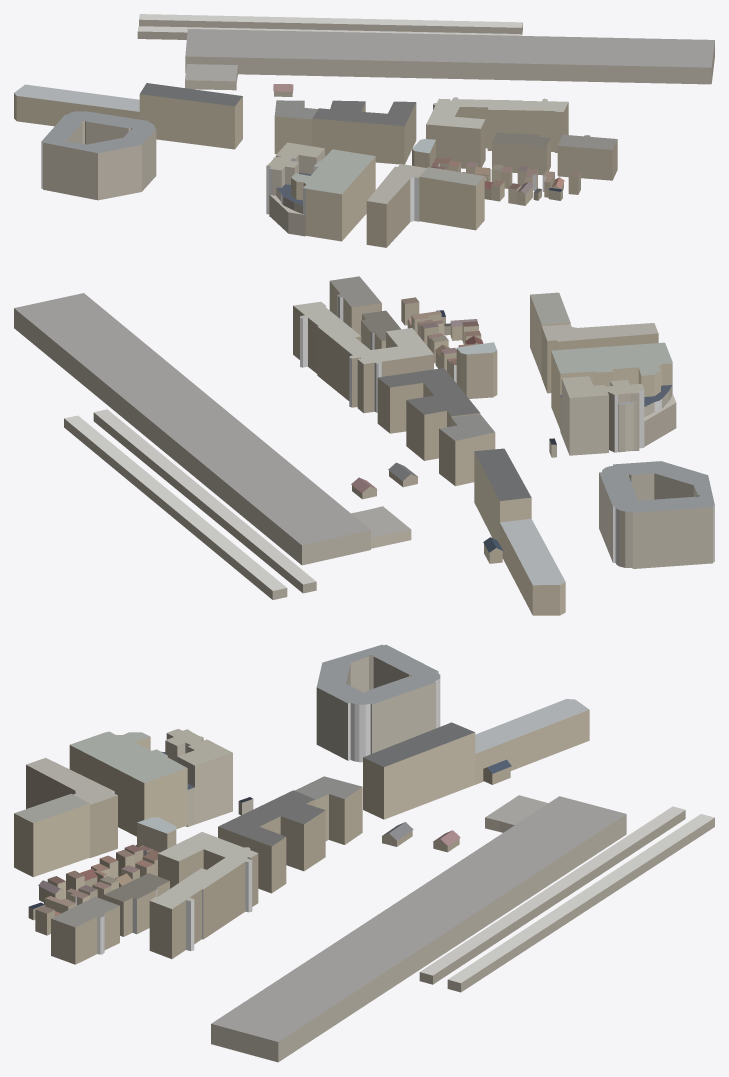
3 renders of one model, top to bottom at view 1: azimuth 30°, elevation 25°; view 2: azimuth 150°, elevation 25°; view 3: azimuth 270°, elevation 25°, orthographic. The views are drawn at different scales.
Parts seen in each view (by area): view 1: tuile; view 2: tuile; view 3: tuile.
Part boxes in pixels (x1=…): tuile: x1=14, y1=14, x2=714, y2=247; tuile: x1=14, y1=276, x2=714, y2=615; tuile: x1=14, y1=644, x2=714, y2=1062.
Bounding box in the file's own units: 387 × 28.55 × 307.
